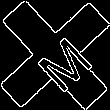M_NW: (21, 21, 89, 89)
